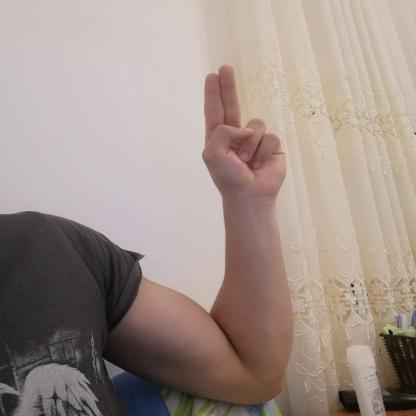TA: (189, 56, 295, 204)
